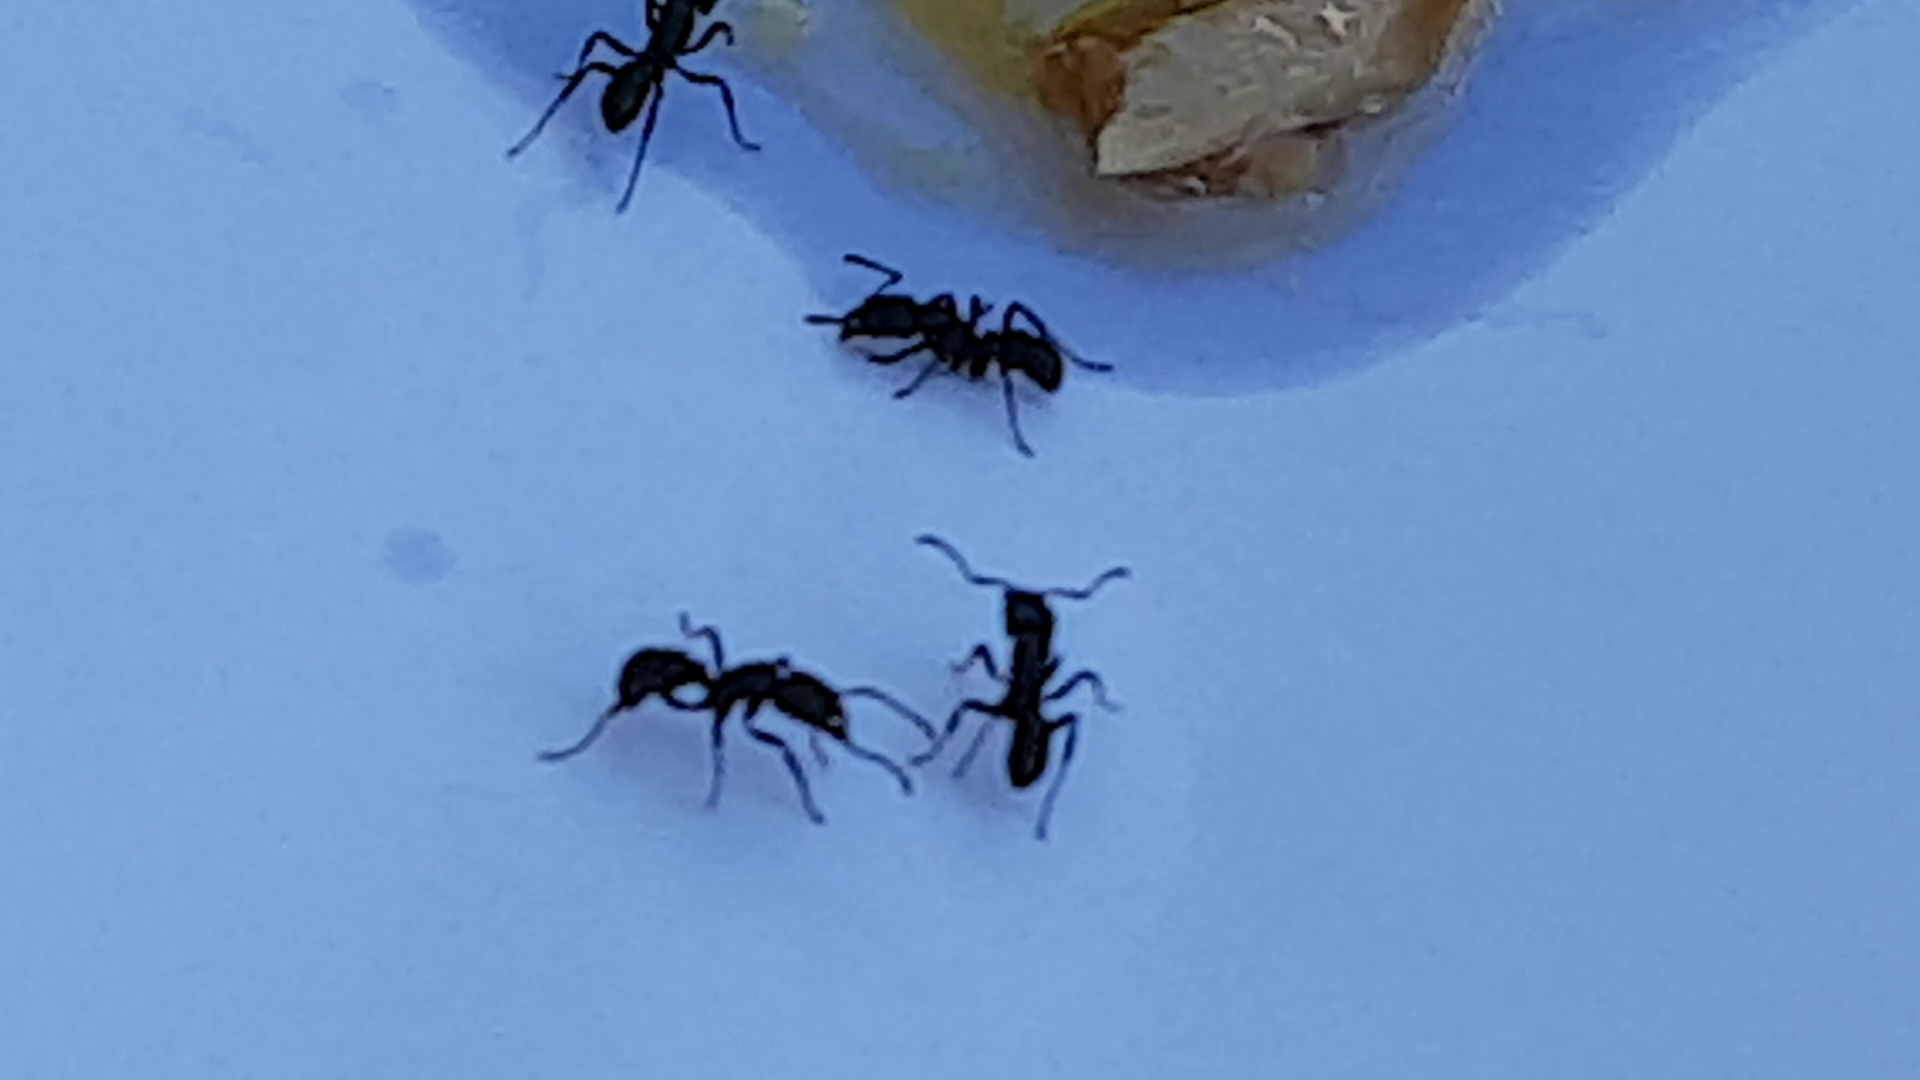sample_ants: (524, 595, 943, 837), (902, 518, 1145, 845), (793, 237, 1127, 467), (495, 0, 777, 220)
